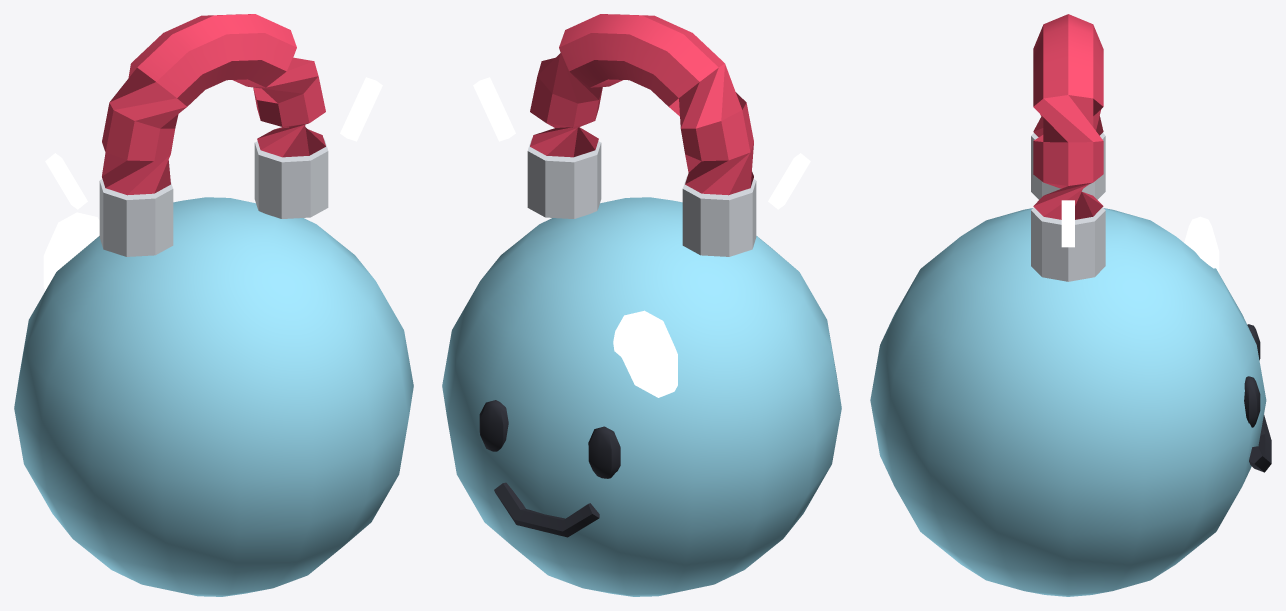
File: item_mine.glb
3 views of the same model, side by side, from view 1: azimuth 30°, elevation 25°; view 2: azimuth 150°, elevation 25°; view 3: azimuth 270°, elevation 25° (orthographic).
Parts seen in each view (by area): view 1: item_mine; view 2: item_mine; view 3: item_mine.
Boxes of the visible parts, left/top/right/bottom form: item_mine: left=14, top=14, right=413, bottom=596; item_mine: left=442, top=14, right=841, bottom=596; item_mine: left=870, top=14, right=1271, bottom=596.
Bounding box in the file's own units: 0.9 × 1.39 × 0.9119.
